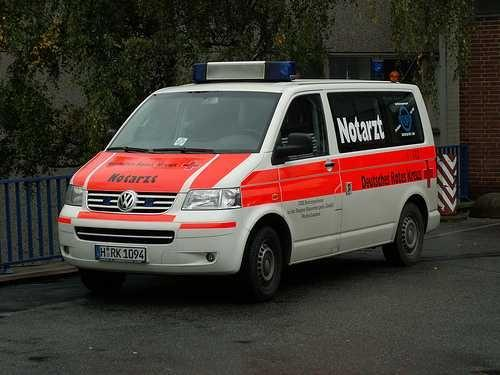car: (55, 59, 441, 301)
